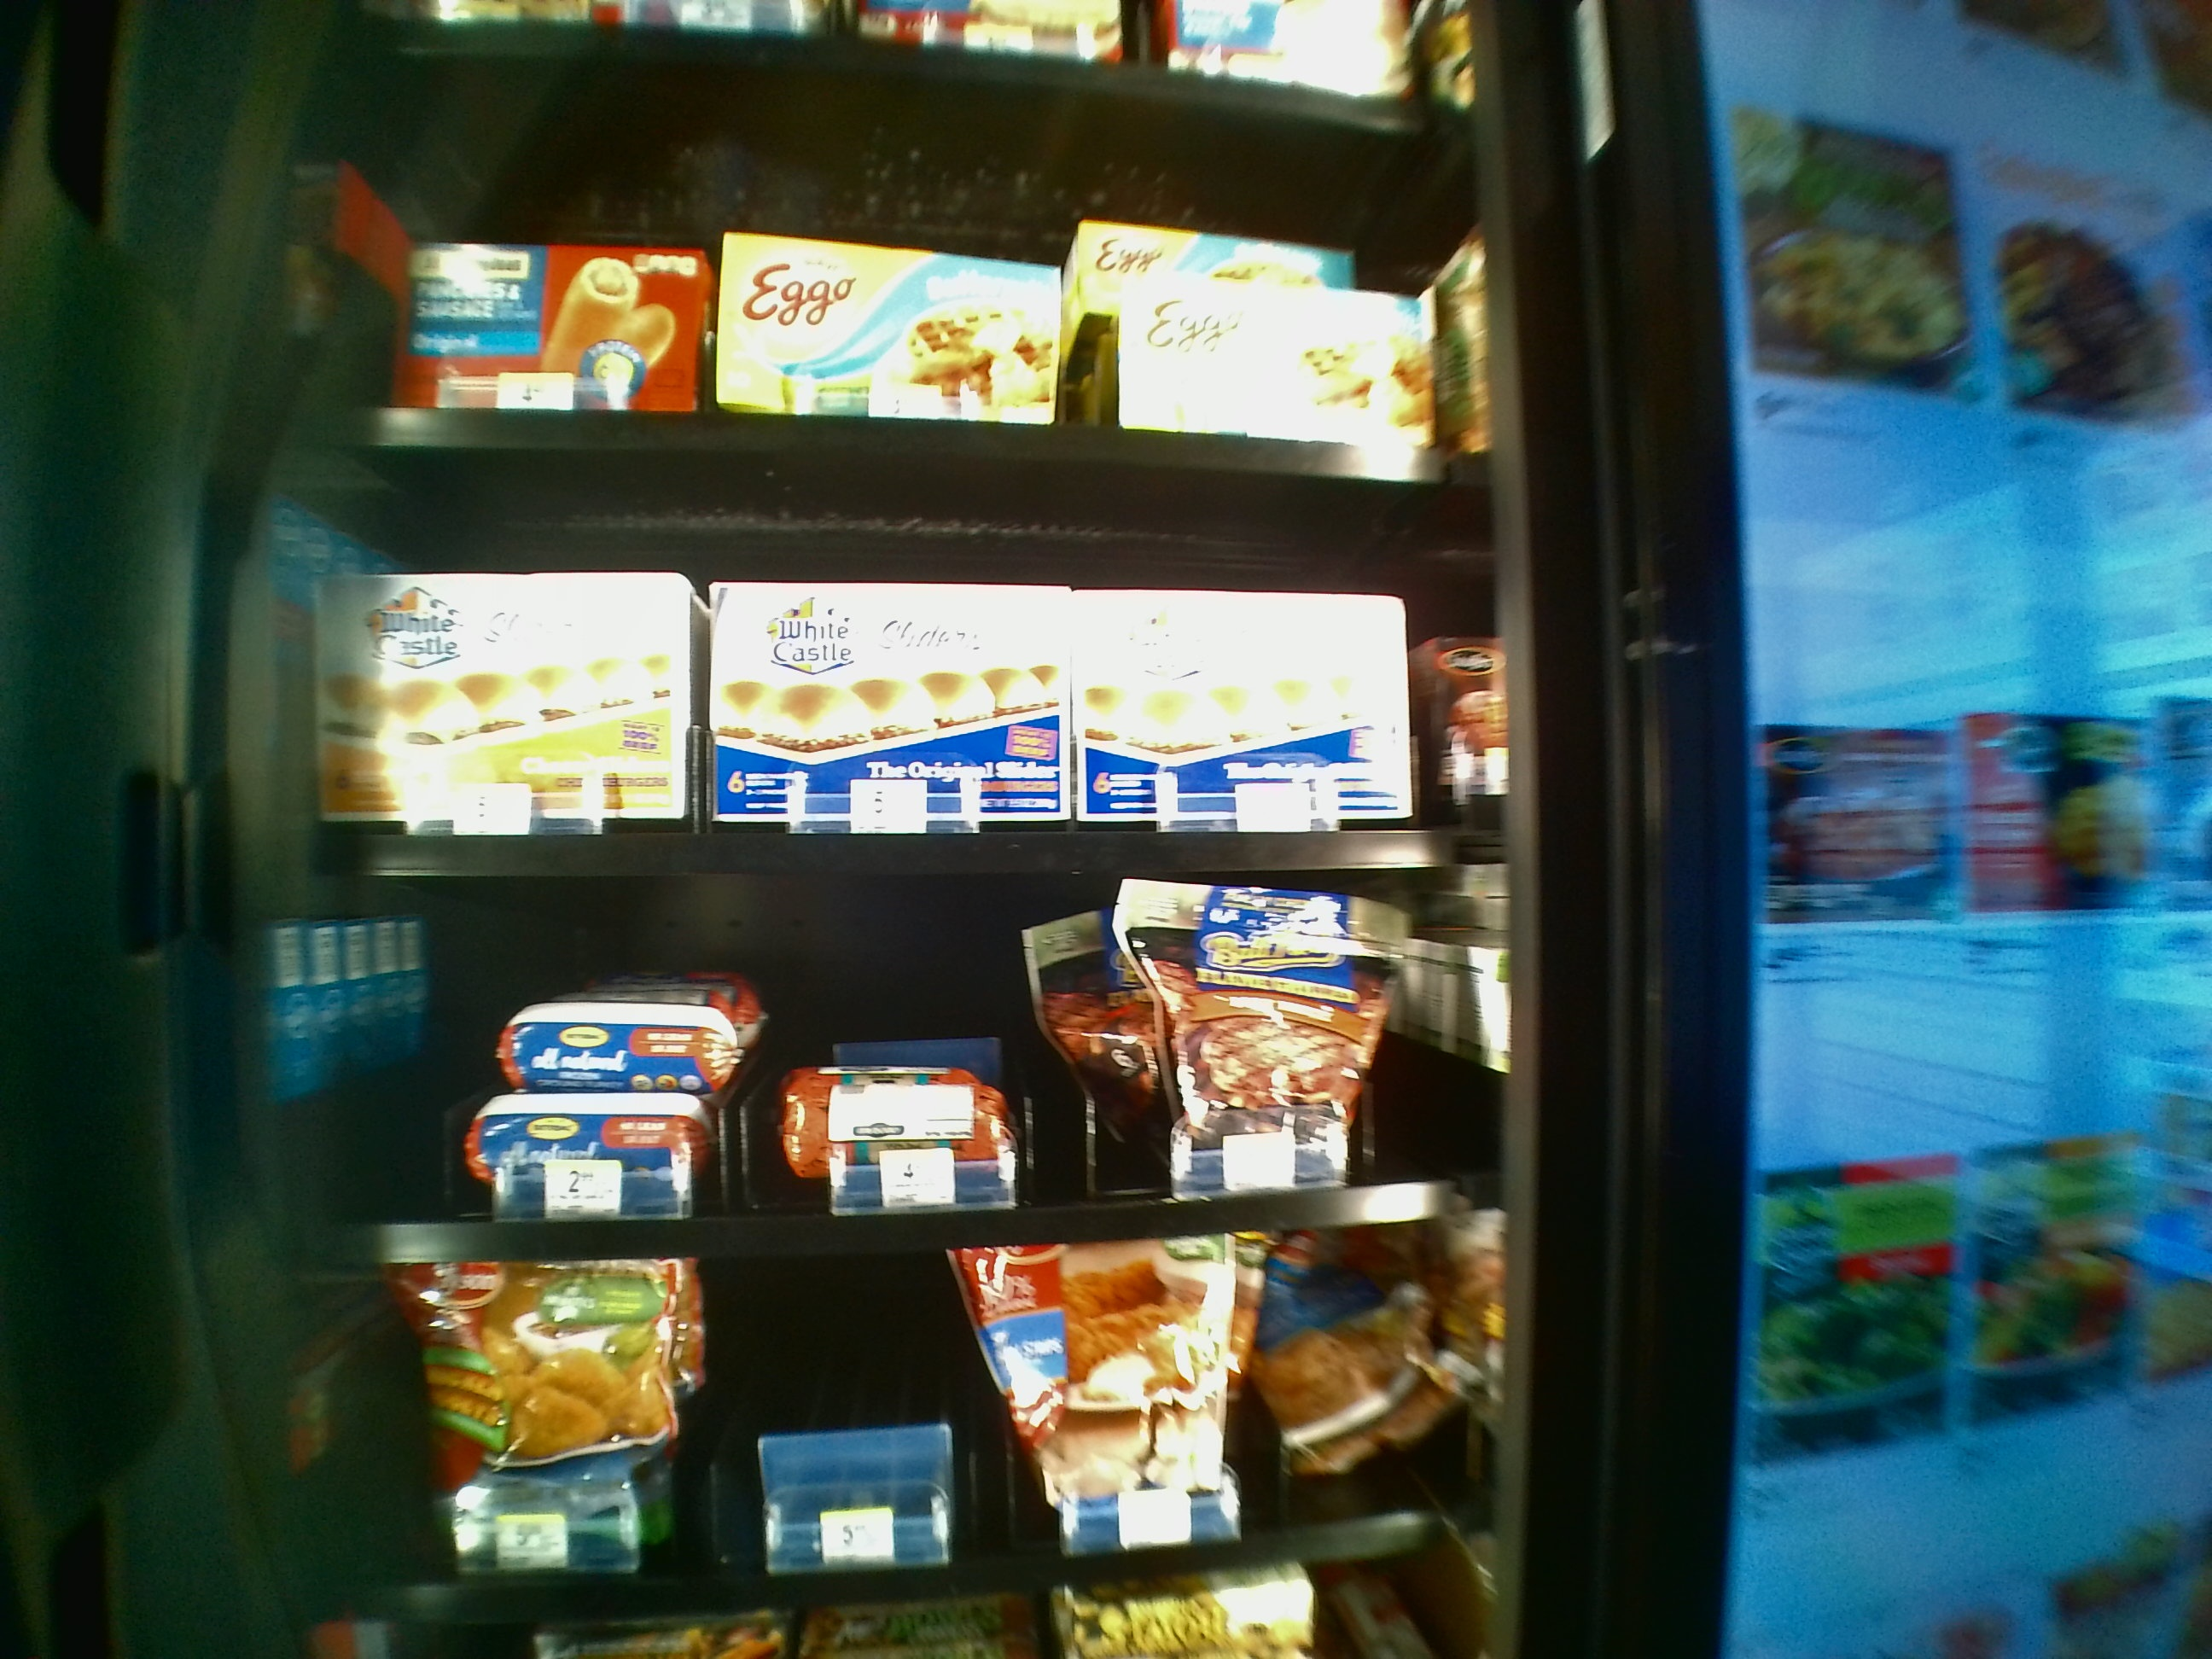shelf: (298, 453, 1496, 877), (294, 892, 1501, 1265)
